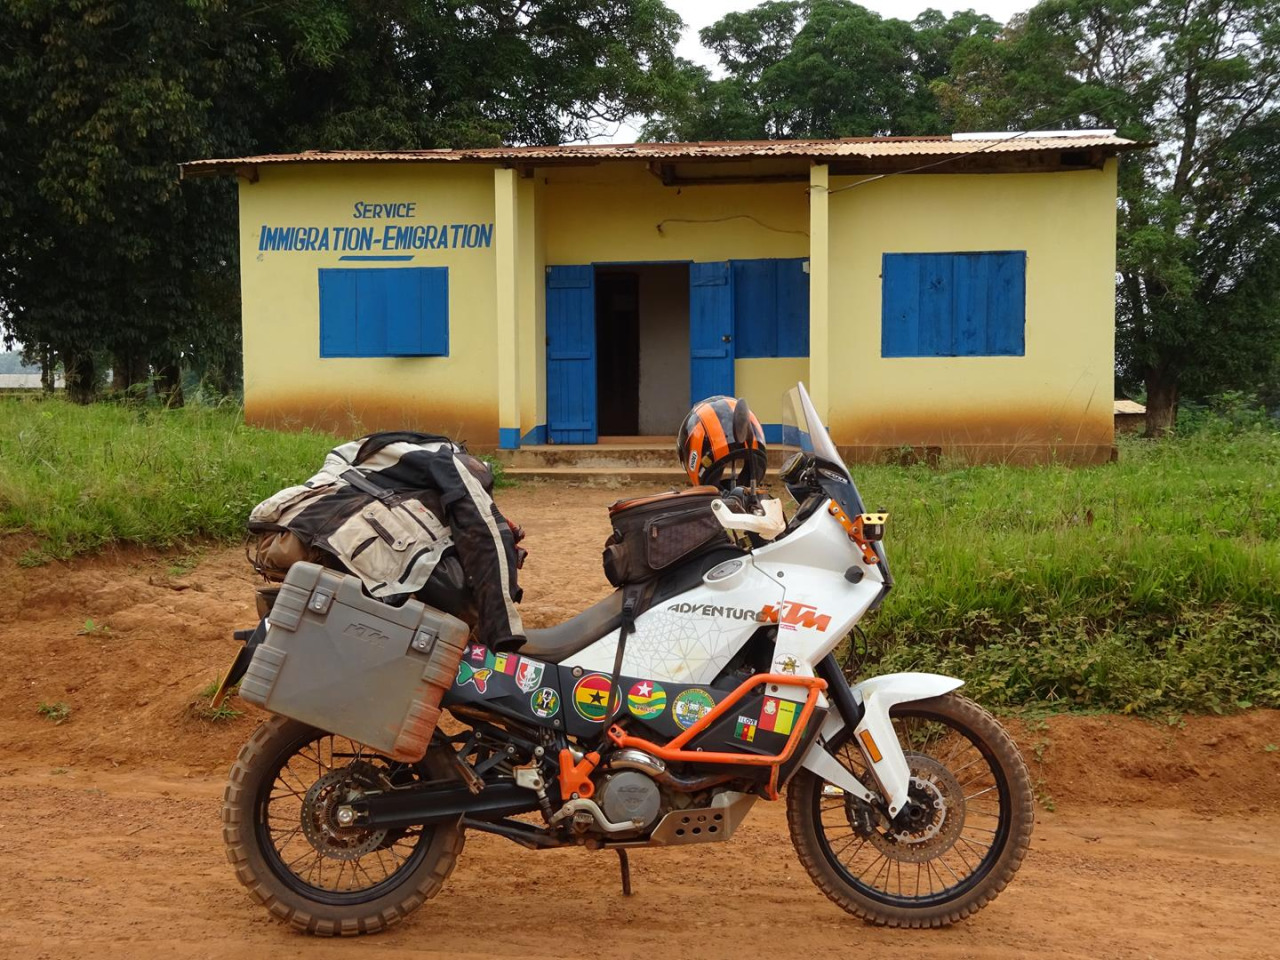motorbike: (215, 481, 1045, 928)
